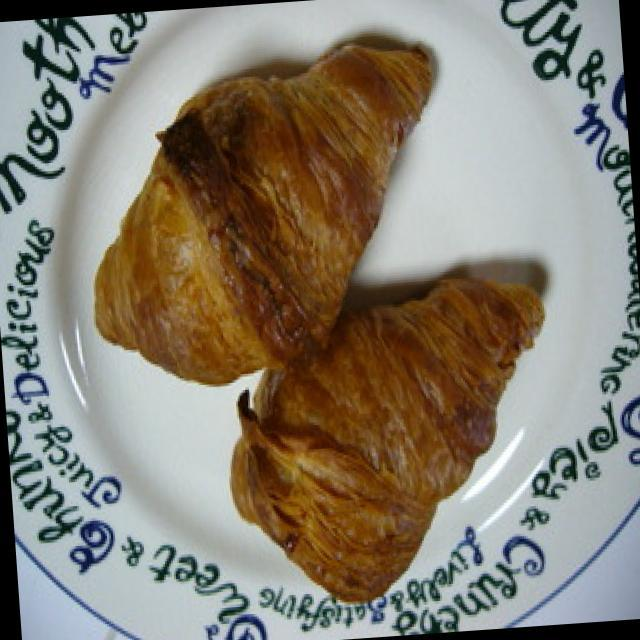Croissant: (79, 49, 459, 403), (227, 294, 554, 613)
